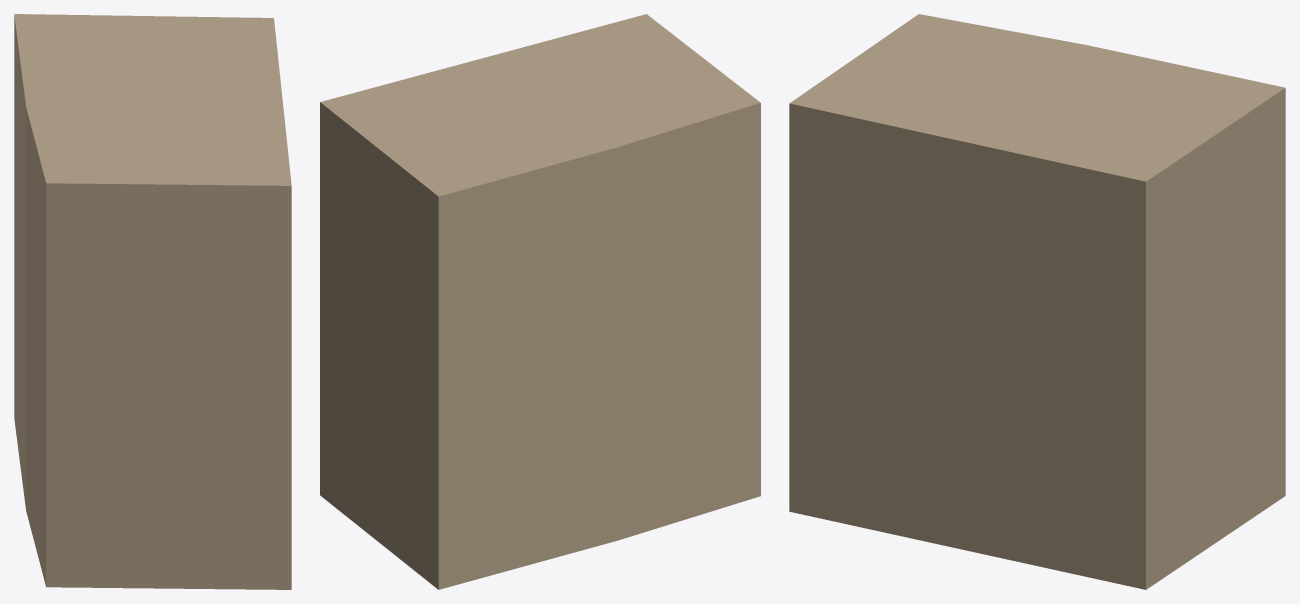
File: bld_98821443.dae
3 renders of one model, left to right at view 1: azimuth 30°, elevation 25°; view 2: azimuth 150°, elevation 25°; view 3: azimuth 270°, elevation 25°, orthographic. The views are drawn at different scales.
Visible parts, largest first — view 1: bld_98821443; view 2: bld_98821443; view 3: bld_98821443.
Part boxes in pixels (<box>): bld_98821443: <box>14,14,291,589</box>; bld_98821443: <box>320,14,760,589</box>; bld_98821443: <box>789,14,1285,589</box>.
Size of the model in its own units: 7.05 by 8.81 by 8.
